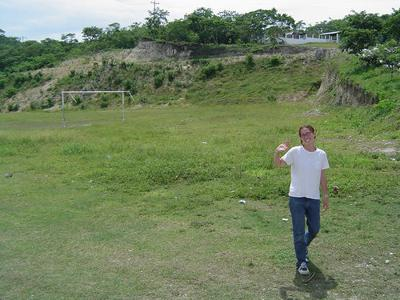person: (274, 124, 332, 282)
